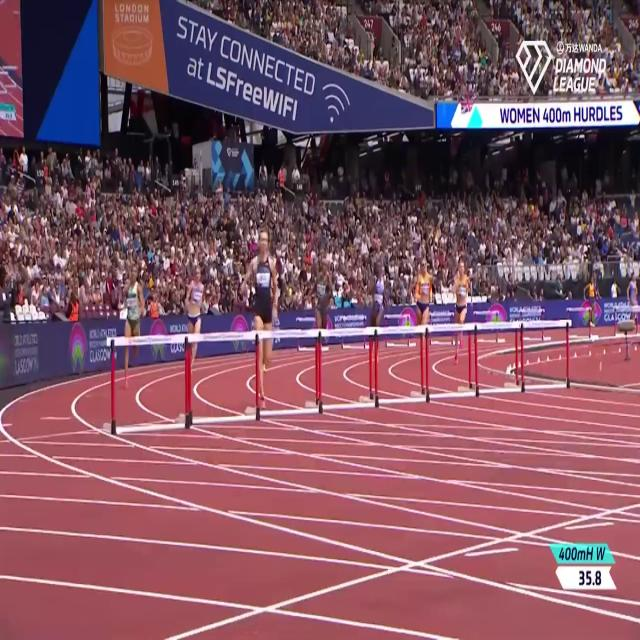athlete: (245, 223, 281, 419), (446, 256, 476, 373), (118, 263, 144, 393), (307, 254, 336, 362), (185, 261, 209, 380), (411, 254, 432, 375), (368, 263, 389, 365)
hurdle: (105, 329, 189, 438), (189, 326, 259, 439), (260, 323, 324, 442), (322, 321, 378, 430), (425, 312, 481, 411), (377, 320, 428, 412), (521, 317, 572, 395), (482, 313, 522, 400)
